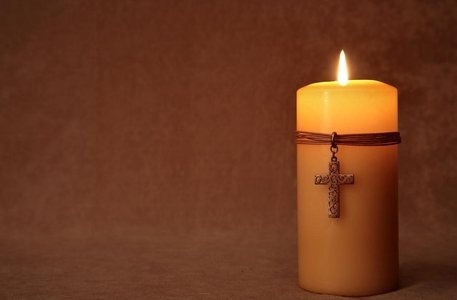fire: (334, 47, 351, 86)
